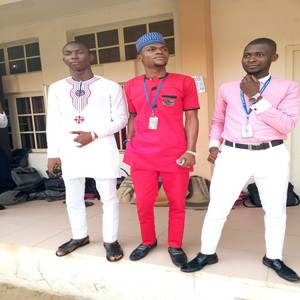Fulokoja_male_student: (215, 38, 292, 276), (46, 43, 124, 261), (123, 34, 187, 264)
